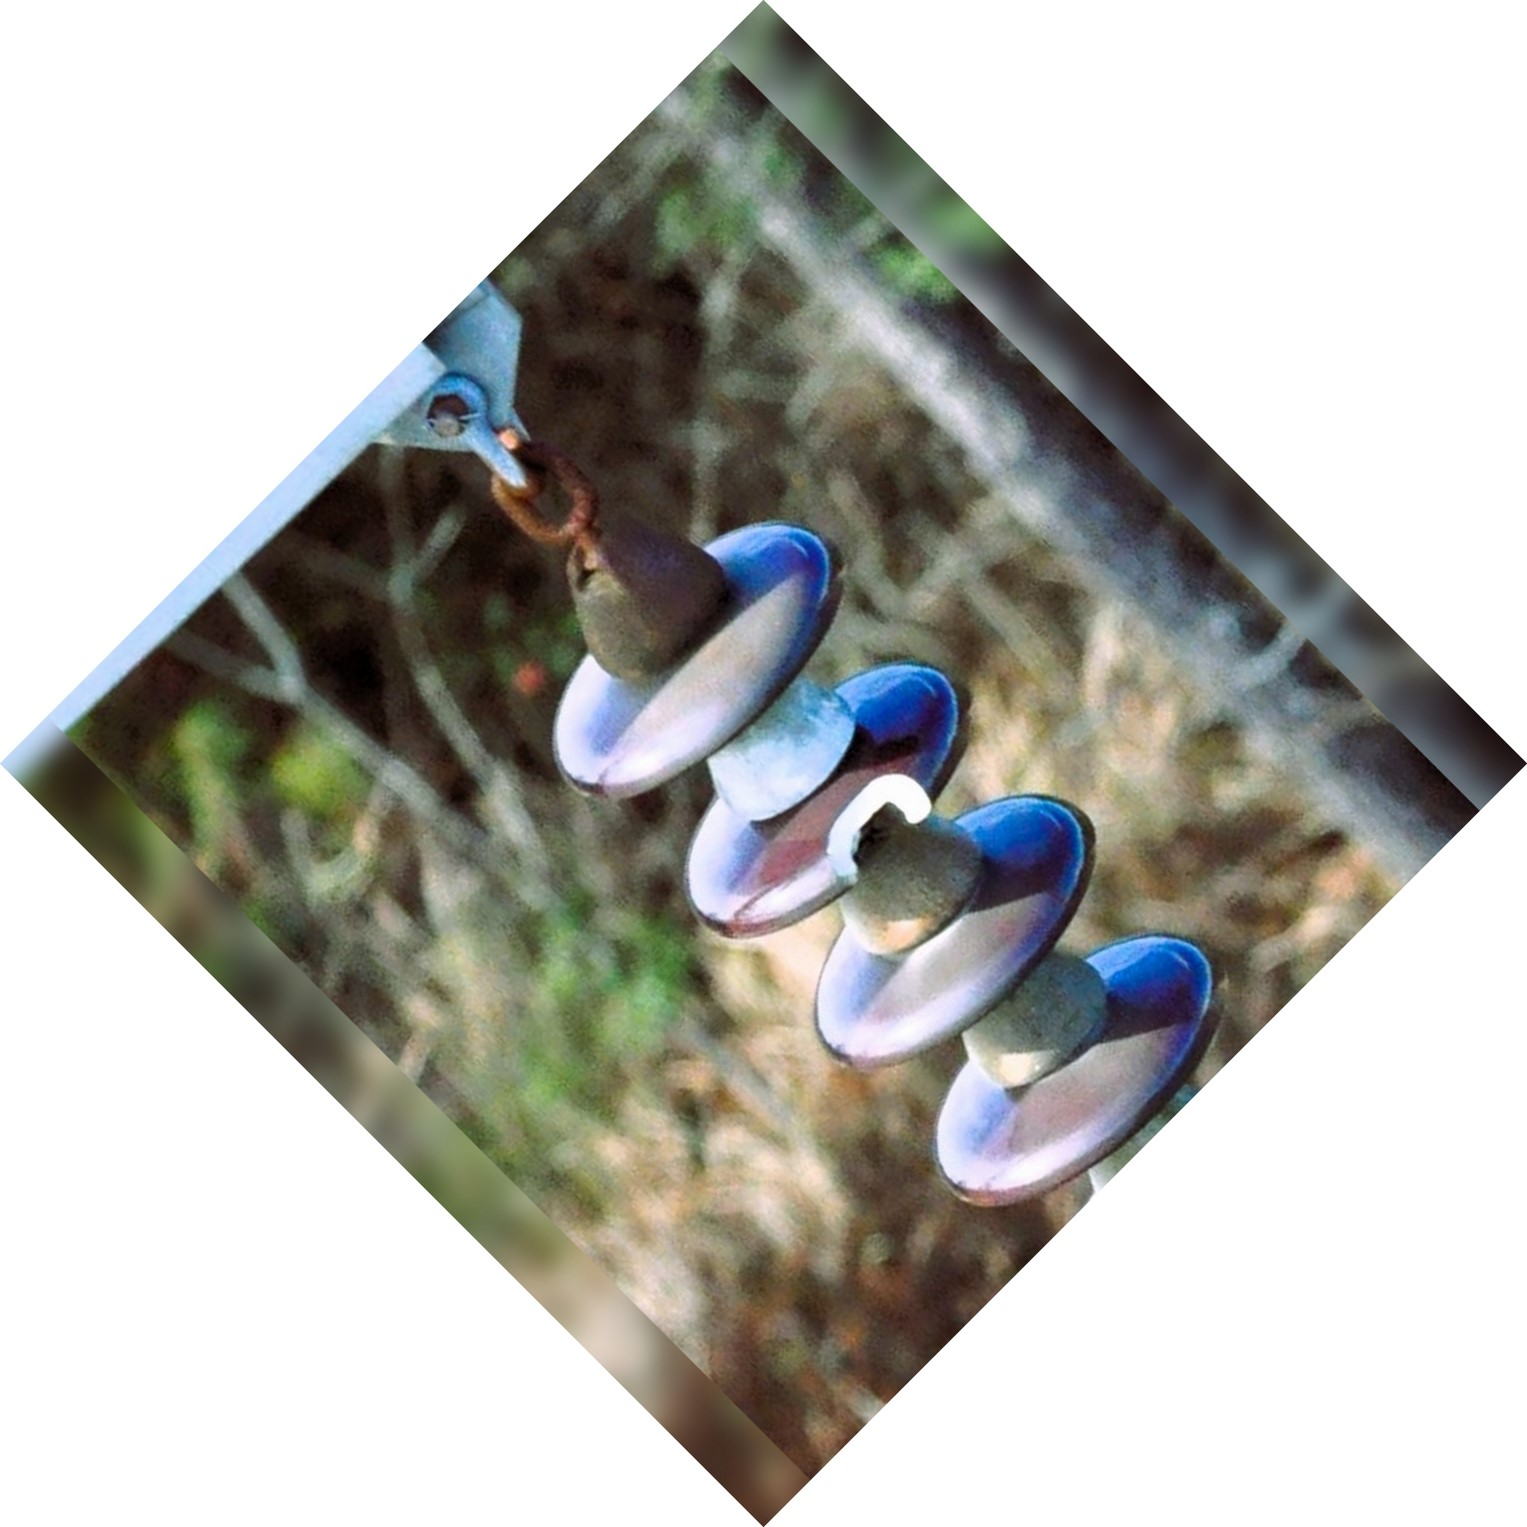insulator breakage: (674, 668, 970, 929)
